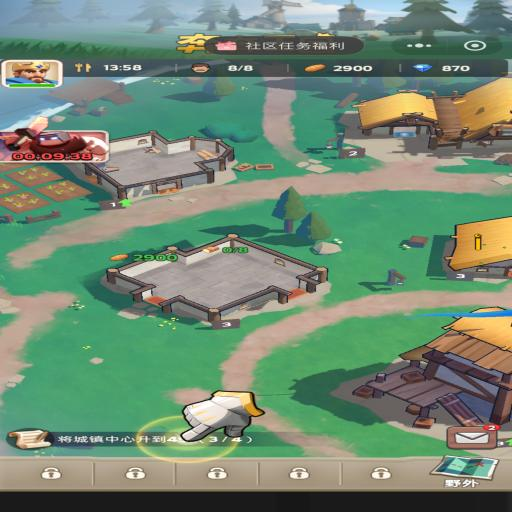newcomer_hand: (179, 388, 265, 440)
